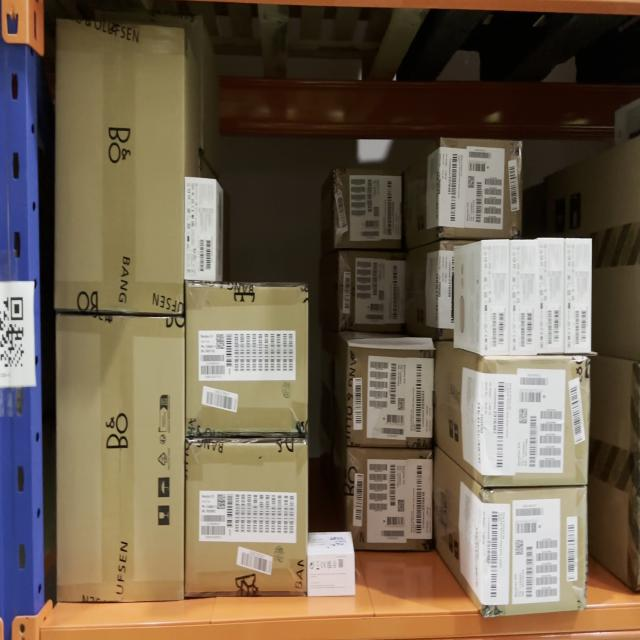box: (55, 20, 181, 311), (55, 319, 183, 601), (188, 287, 306, 434), (187, 448, 305, 592), (350, 348, 436, 445), (355, 456, 434, 544), (538, 237, 564, 348), (485, 242, 509, 359), (186, 177, 213, 280), (512, 244, 534, 353), (570, 238, 590, 353), (310, 552, 354, 594)
